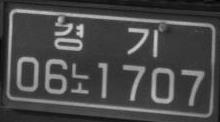0: (149, 66, 175, 104), (15, 55, 40, 92)
1: (92, 61, 114, 99)
6: (43, 58, 68, 95)
7: (120, 63, 147, 102), (179, 68, 206, 107)
경기_D: (54, 20, 159, 59)
노: (70, 62, 90, 95)
